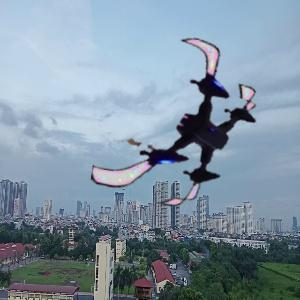drone: (101, 36, 278, 213)
